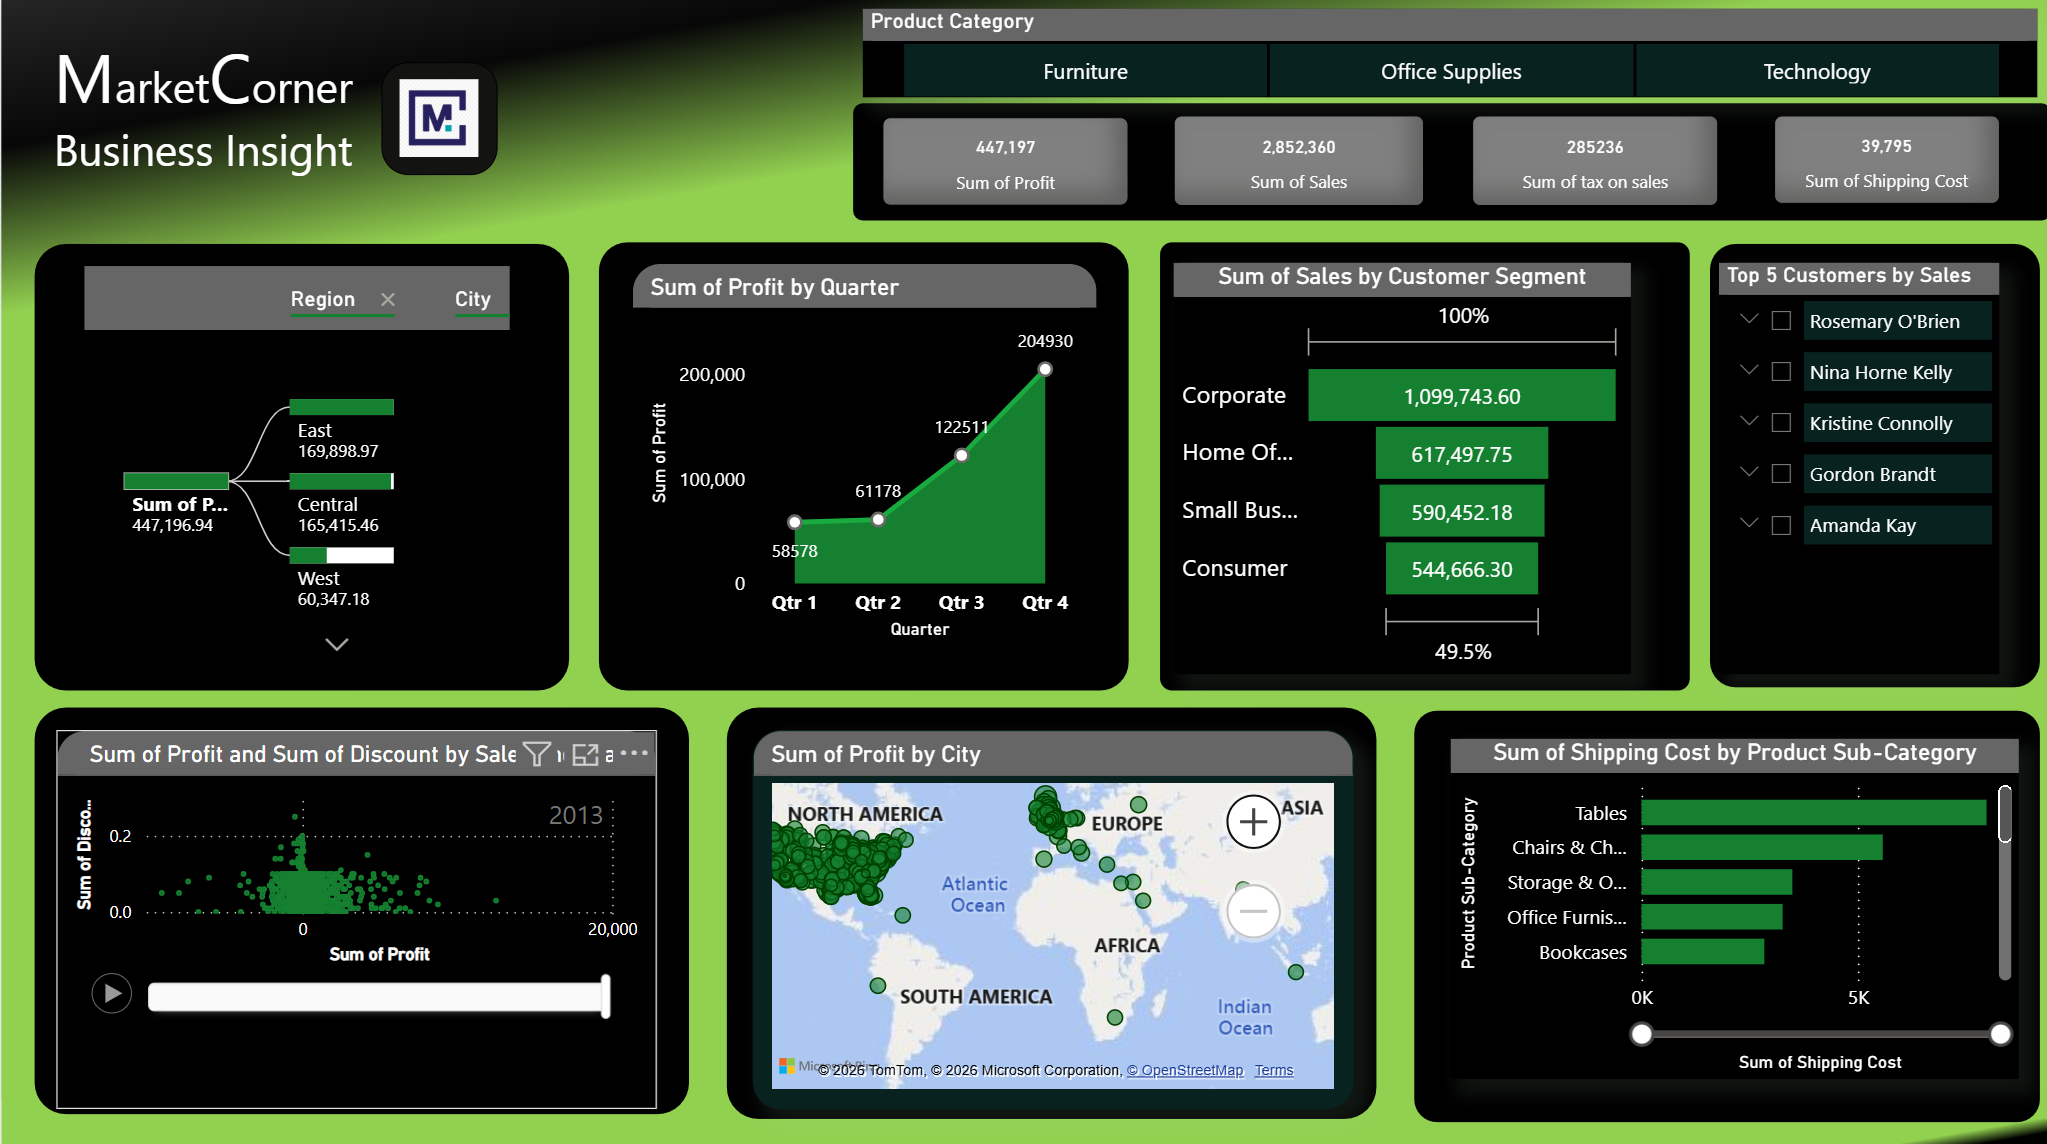

The dashboard page shown, as its layout file describes it:
{"tool":"powerbi","page":{"name":"Market Corner Dashboard","canvas":[1280,720],"ordinal":0},"visuals":[{"type":"map","title":"Sum of Profit by City","fields":{"Category":["Orders.City"],"Size":["Orders.Profit"]},"box":[469.5,456.3,375.8,237.4],"z":0},{"type":"scatterChart","fields":{"X":["Orders.Profit"],"Y":["Orders.Discount"],"Play":["Orders.Order Date.Variation.Date Hierarchy.Year"],"Category":["Orders.Sales"]},"box":[34.1,456.3,375.6,237.5],"z":1000},{"type":"card","fields":{"Values":["Orders.tax on sales"]},"box":[920.4,72.5,154.3,56.7],"z":2000},{"type":"card","fields":{"Values":["Orders.Sales"]},"box":[733.2,72.5,156.9,56.7],"z":3000},{"type":"card","fields":{"Values":["Orders.Profit"]},"box":[551.2,73.8,154.3,55.4],"z":4000},{"type":"card","fields":{"Values":["Orders.Shipping Cost"]},"box":[1109,72.5,141.1,55.4],"z":5000},{"type":"slicer","title":"Top 5  Customers by Sales","fields":{"Values":["Orders.Customer Name","Orders.Sales"]},"box":[1074.7,164.8,175.4,257.1],"z":6000},{"type":"areaChart","fields":{"Category":["Orders.Order Date.Variation.Date Hierarchy.Year","Orders.Order Date.Variation.Date Hierarchy.Quarter","Orders.Order Date.Variation.Date Hierarchy.Month","Orders.Order Date.Variation.Date Hierarchy.Day"],"Y":["Orders.Profit"]},"box":[394.3,164.8,291.4,246.6],"z":7000},{"type":"slicer","title":"Product Category","fields":{"Values":["Orders.Product Category"]},"box":[539.3,5.3,734.5,55.4],"z":8000},{"type":"decompositionTreeVisual","fields":{"Analyze":["Orders.Profit"],"ExplainBy":["Orders.Region","Orders.City","Orders.Product Category"]},"box":[39.6,154.3,290.1,267.7],"z":9000},{"type":"funnel","fields":{"Y":["Orders.Sales"],"Category":["Orders.Customer Segment"]},"box":[733.2,164.8,286.2,257.1],"z":10000},{"type":"shape","box":[18.3,5.7,332.4,135.3],"z":11000},{"type":"textbox","box":[27.7,13.2,382.4,121.3],"z":12000},{"type":"clusteredBarChart","fields":{"Category":["Orders.Product Sub-Category"],"Y":["Orders.Shipping Cost"]},"box":[906.4,462.4,355.6,212.7],"z":13000},{"type":"image","box":[237.4,39,73,70.9],"z":14000}]}

Visuals, with their boxes in screenshot pixels (x1, y1, x2, y2), scaled from the page's 1280x720 canvas onto the 2047x1144 screenshot:
"Sum of Profit by City" map: [x1=751, y1=725, x2=1352, y2=1102]
scatterChart - Orders.Profit x Orders.Discount: [x1=55, y1=725, x2=655, y2=1102]
card - Orders.tax on sales: [x1=1472, y1=115, x2=1719, y2=205]
card - Orders.Sales: [x1=1173, y1=115, x2=1423, y2=205]
card - Orders.Profit: [x1=881, y1=117, x2=1128, y2=205]
card - Orders.Shipping Cost: [x1=1774, y1=115, x2=1999, y2=203]
"Top 5  Customers by Sales" slicer: [x1=1719, y1=262, x2=1999, y2=670]
areaChart - Orders.Order Date.Variation.Date Hierarchy.Year x Orders.Order Date.Variation.Date Hierarchy.Quarter: [x1=631, y1=262, x2=1097, y2=654]
"Product Category" slicer: [x1=862, y1=8, x2=2037, y2=96]
decompositionTreeVisual - Orders.Profit x Orders.Region: [x1=63, y1=245, x2=527, y2=671]
funnel - Orders.Sales x Orders.Customer Segment: [x1=1173, y1=262, x2=1630, y2=670]
shape: [x1=29, y1=9, x2=561, y2=224]
textbox: [x1=44, y1=21, x2=656, y2=214]
clusteredBarChart - Orders.Product Sub-Category x Orders.Shipping Cost: [x1=1450, y1=735, x2=2018, y2=1073]
image: [x1=380, y1=62, x2=496, y2=175]
